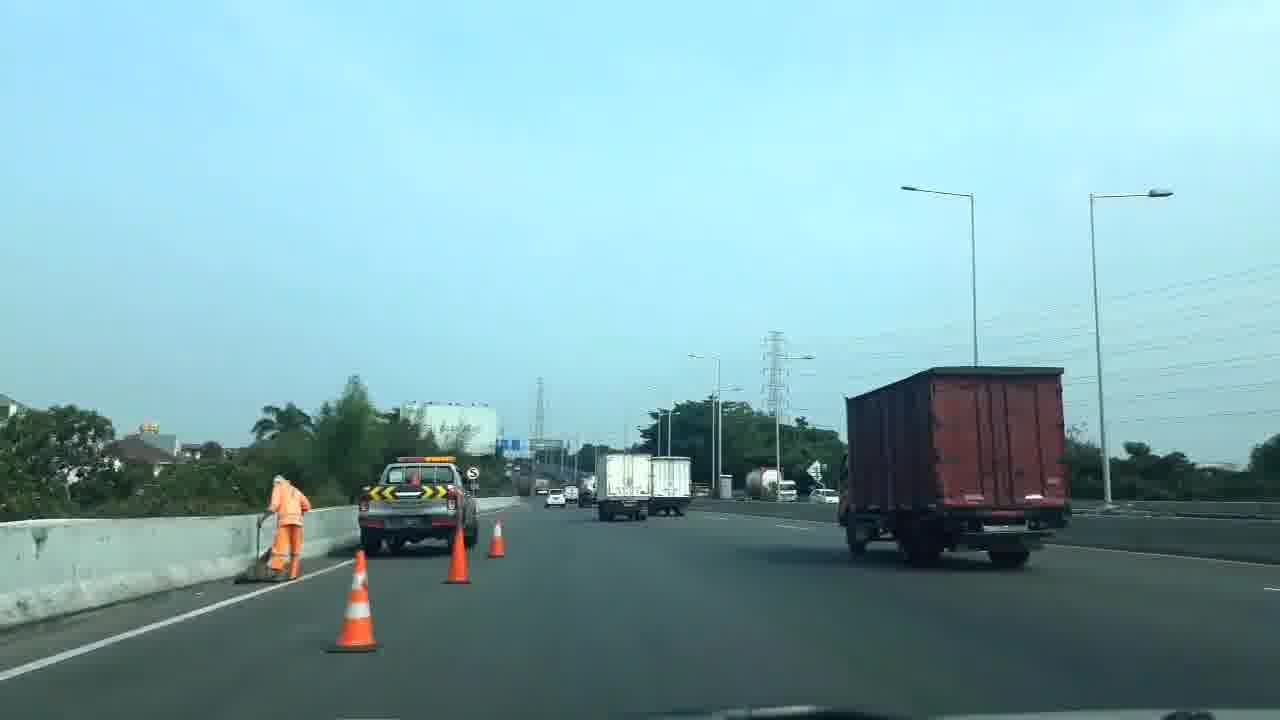plate_positive: (983, 521, 1026, 532)
